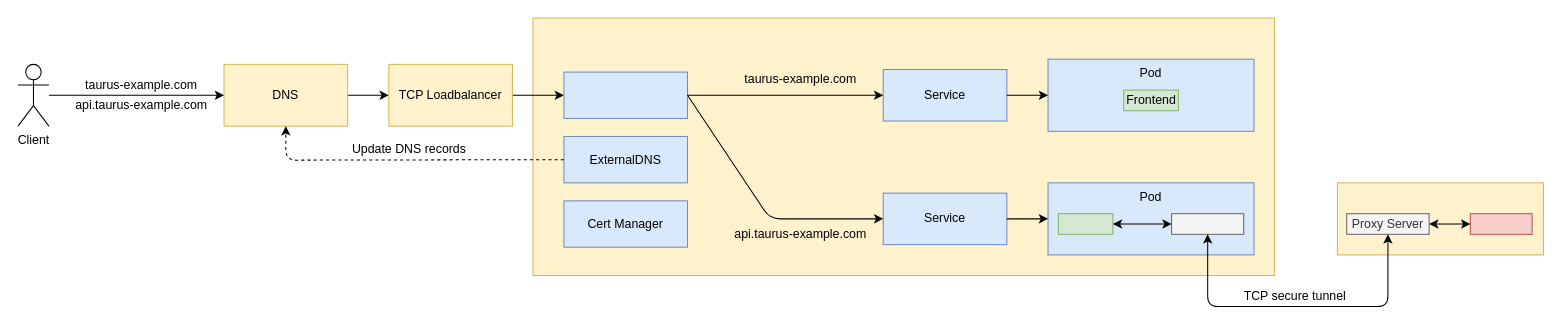
Image size: 1561x334. Some labels were removed from this diagram. The box of each missing label's shape, as (x1, y1, x2, y2) in pixels:
Backend: (1057, 213, 1113, 234)
Cloud SQL: (1336, 182, 1543, 255)
GKE: (532, 17, 1275, 276)
Instance: (1469, 213, 1532, 234)
Nginx Ingress Controller: (563, 71, 688, 118)
Proxy Client: (1171, 213, 1244, 234)
